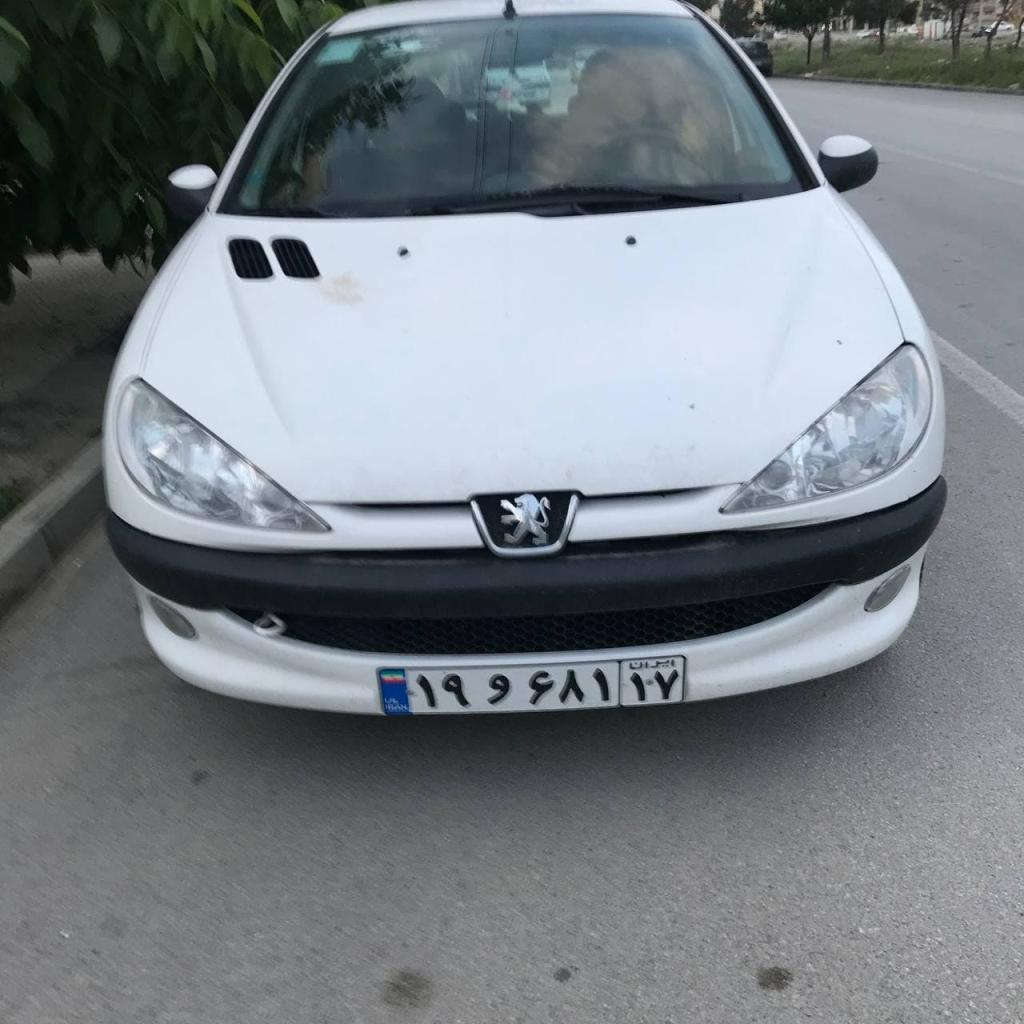Plates: (378, 656, 684, 716)
